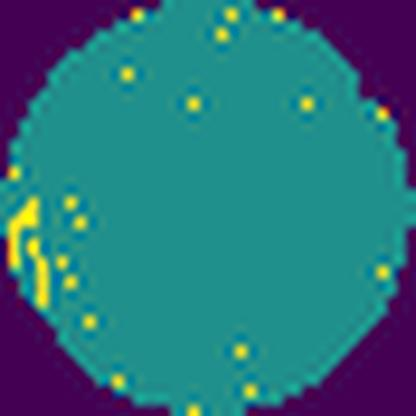Loc: (6, 195, 52, 315)
